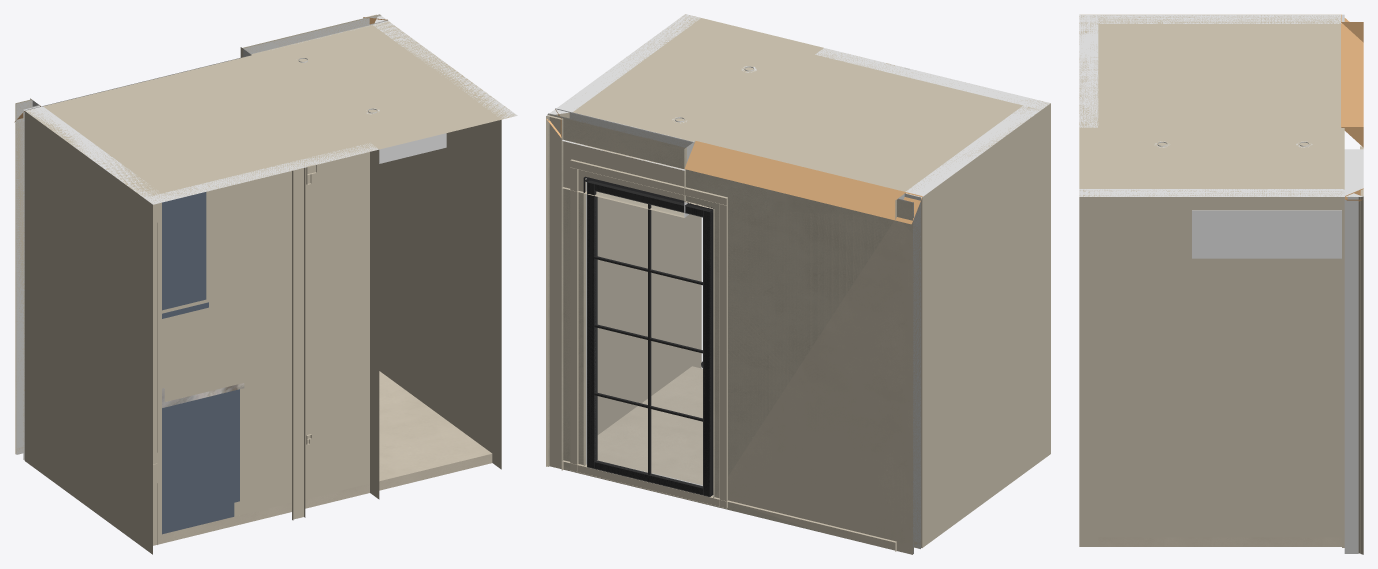
The model's file is laundry-540ed6dd9049.glb.
The picture shows the model from 3 angles, left to right: view 1: azimuth 30°, elevation 25°; view 2: azimuth 150°, elevation 25°; view 3: azimuth 270°, elevation 25°; orthographic projection. The views are drawn at different scales.
Parts seen in each view (by area): view 1: laundry-8d8280a2b3ef8b4c, laundry-9d91b47435c6fb33, laundry-4fe5579be934d30a, laundry-7f59123d155b94ce, laundry-3d7dc14daaac73cc, laundry-1b1650778d28d58a, laundry-cdbda69d535efec9, laundry-64efeecf845bccca, laundry-9a6873bb27e0e1d8, laundry-ca9c0b57f88e5741, laundry-6cbc44f63f815149, laundry-bd62734a7bc60eb7; view 2: laundry-bd62734a7bc60eb7, laundry-ca9c0b57f88e5741, laundry-4fe5579be934d30a, laundry-9d91b47435c6fb33, laundry-09f90213aa0a4493, laundry-7f59123d155b94ce, laundry-1b1650778d28d58a, laundry-9373e00609a5f856, laundry-341dc20a3e1bcc67, laundry-8d8280a2b3ef8b4c, laundry-9a6873bb27e0e1d8, laundry-82fe871d7bda5383 (+2 smaller); view 3: laundry-7f59123d155b94ce, laundry-9d91b47435c6fb33, laundry-6cbc44f63f815149, laundry-9a6873bb27e0e1d8, laundry-341dc20a3e1bcc67, laundry-1b1650778d28d58a, laundry-8d8280a2b3ef8b4c, laundry-4fe5579be934d30a, laundry-82fe871d7bda5383, laundry-bd62734a7bc60eb7.
Part boxes in pixels (bbox=[...]): laundry-8d8280a2b3ef8b4c: bbox=[143, 143, 379, 554]; laundry-9d91b47435c6fb33: bbox=[25, 21, 515, 203]; laundry-4fe5579be934d30a: bbox=[24, 106, 158, 547]; laundry-7f59123d155b94ce: bbox=[373, 14, 517, 469]; laundry-3d7dc14daaac73cc: bbox=[162, 389, 239, 534]; laundry-1b1650778d28d58a: bbox=[160, 371, 492, 543]; laundry-cdbda69d535efec9: bbox=[162, 192, 208, 318]; laundry-64efeecf845bccca: bbox=[292, 167, 305, 520]; laundry-9a6873bb27e0e1d8: bbox=[16, 15, 388, 459]; laundry-ca9c0b57f88e5741: bbox=[15, 14, 380, 453]; laundry-6cbc44f63f815149: bbox=[379, 133, 446, 163]; laundry-bd62734a7bc60eb7: bbox=[15, 14, 380, 454]; laundry-bd62734a7bc60eb7: bbox=[547, 114, 912, 554]; laundry-ca9c0b57f88e5741: bbox=[549, 114, 913, 554]; laundry-4fe5579be934d30a: bbox=[904, 106, 1041, 547]; laundry-9d91b47435c6fb33: bbox=[555, 14, 1050, 191]; laundry-09f90213aa0a4493: bbox=[583, 176, 714, 497]; laundry-7f59123d155b94ce: bbox=[546, 14, 701, 466]; laundry-1b1650778d28d58a: bbox=[562, 366, 896, 551]; laundry-9373e00609a5f856: bbox=[570, 159, 727, 508]; laundry-341dc20a3e1bcc67: bbox=[684, 141, 906, 220]; laundry-8d8280a2b3ef8b4c: bbox=[815, 48, 1050, 460]; laundry-9a6873bb27e0e1d8: bbox=[548, 112, 920, 553]; laundry-82fe871d7bda5383: bbox=[570, 113, 922, 548]; laundry-7f59123d155b94ce: bbox=[1079, 189, 1363, 554]; laundry-9d91b47435c6fb33: bbox=[1079, 14, 1344, 196]; laundry-6cbc44f63f815149: bbox=[1192, 149, 1363, 258]; laundry-9a6873bb27e0e1d8: bbox=[1344, 196, 1358, 553]; laundry-341dc20a3e1bcc67: bbox=[1341, 22, 1363, 147]; laundry-1b1650778d28d58a: bbox=[1098, 537, 1341, 546]; laundry-8d8280a2b3ef8b4c: bbox=[1079, 15, 1098, 127]; laundry-4fe5579be934d30a: bbox=[1098, 15, 1341, 23]; laundry-82fe871d7bda5383: bbox=[1342, 14, 1344, 547]; laundry-bd62734a7bc60eb7: bbox=[1360, 189, 1363, 553].
Bounding box in the file's own units: 2.72 × 2.5 × 1.8.
29 materials, 3 textured.
